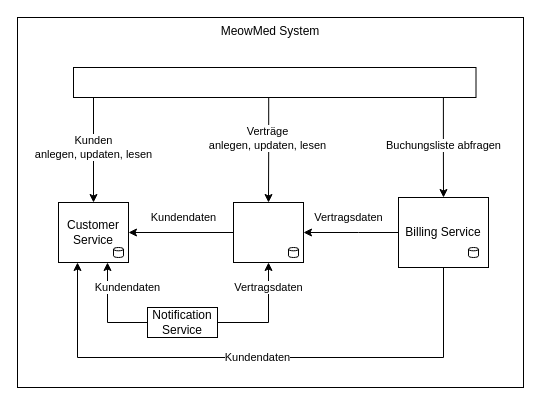
Some shapes in this 541 by 405 pixel diagram are drawn without their labels. Here are the shapes that lost their labels. From the top down, the centre of each, then its label:
At (x=274, y=82): "MeowMed UI".
At (x=268, y=232): "Policy Service".
